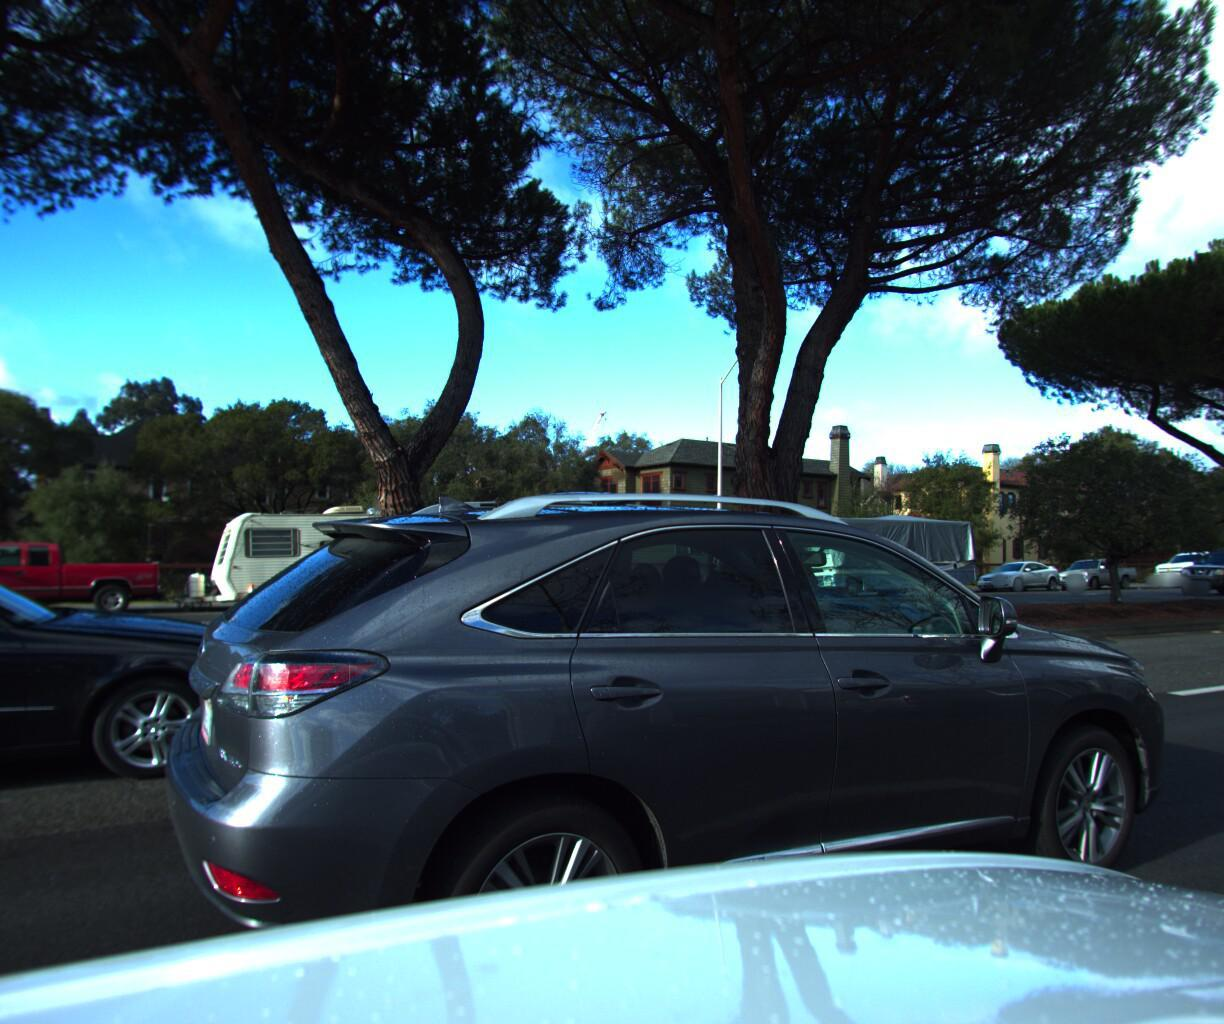car: (114, 384, 1196, 1024), (0, 539, 344, 913), (0, 540, 169, 624), (1138, 545, 1224, 585), (1043, 553, 1138, 588), (964, 556, 1060, 590), (1166, 546, 1224, 591)
other_vehicle: (187, 493, 525, 613), (495, 499, 746, 602), (779, 505, 981, 595)
